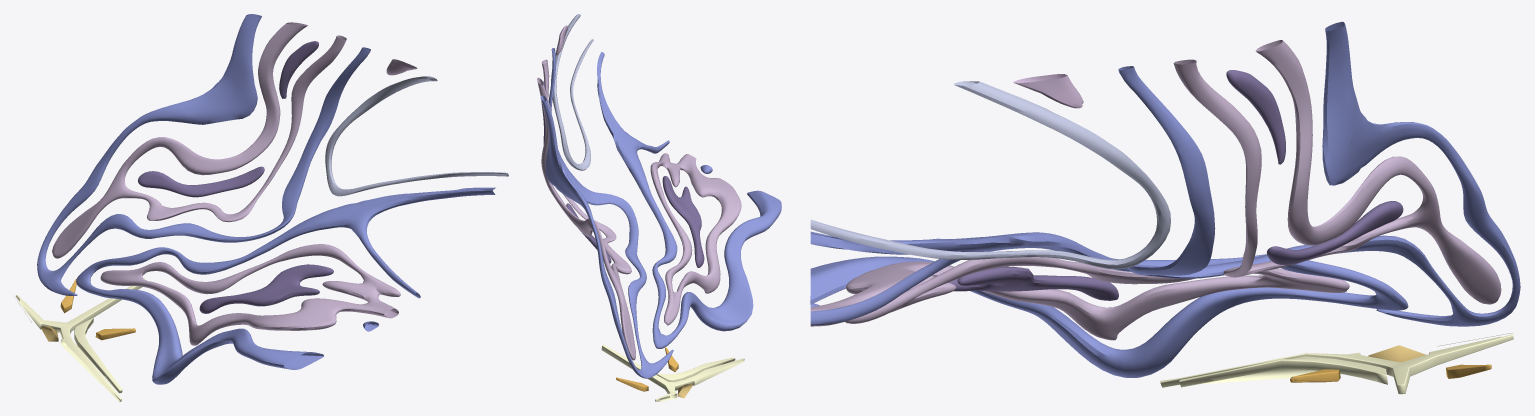
File: SM_Butterfly_Front_LB_3.fbx
The picture shows the model from 3 angles, left to right: view 1: azimuth 30°, elevation 25°; view 2: azimuth 150°, elevation 25°; view 3: azimuth 270°, elevation 25°; orthographic projection. The views are drawn at different scales.
Parts seen in each view (by area): view 1: 3; view 2: 3; view 3: 3.
Boxes of the visible parts, bbox=[...] form: 3: bbox=[14, 14, 508, 401]; 3: bbox=[537, 14, 781, 401]; 3: bbox=[810, 21, 1520, 394].
Bounding box in the file's own units: 146 × 145 × 182.
